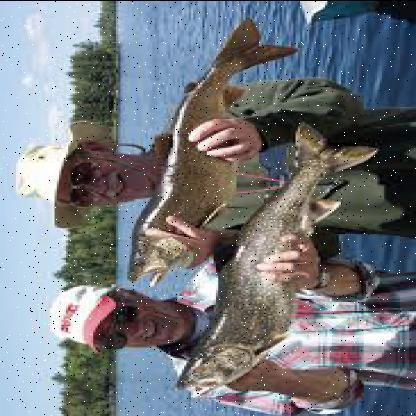fish: (176, 123, 378, 398), (124, 19, 292, 295)
